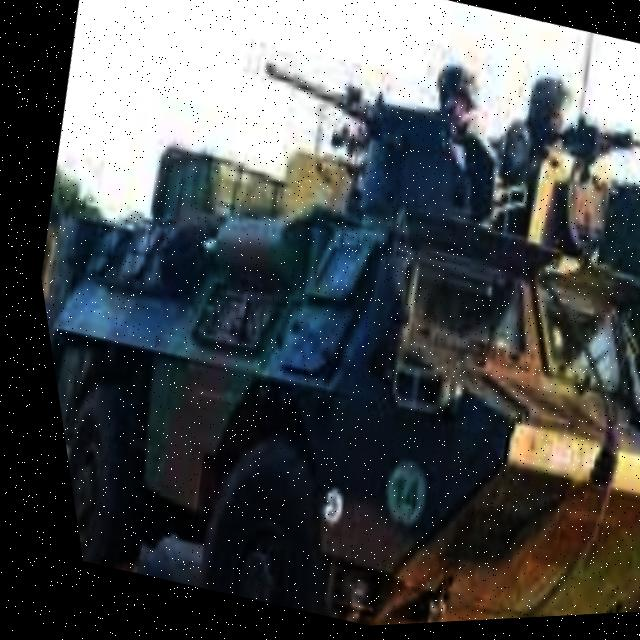MIL_APC: (8, 40, 640, 640)
